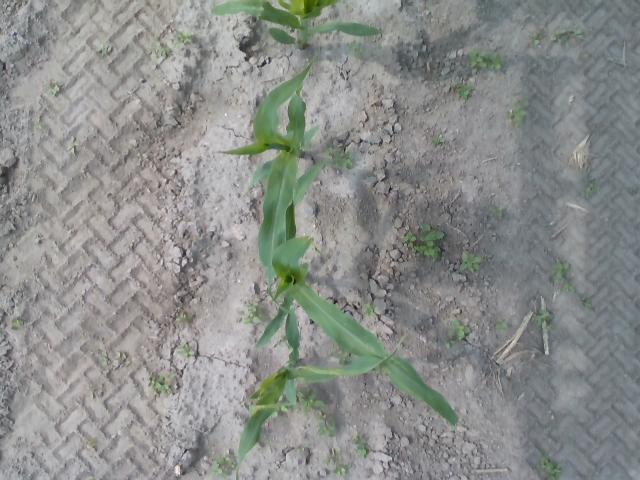Maize: (252, 154, 458, 424), (236, 289, 404, 474), (219, 54, 316, 314), (211, 0, 383, 51)
Weeds: (416, 226, 444, 258), (552, 263, 575, 291), (212, 452, 236, 478), (471, 53, 501, 73), (300, 389, 322, 410), (448, 321, 470, 340), (552, 30, 584, 42), (460, 253, 482, 270), (539, 459, 558, 478), (454, 82, 474, 98), (176, 30, 198, 44), (150, 377, 170, 392), (511, 106, 526, 126), (317, 419, 334, 436), (335, 154, 354, 169), (354, 440, 368, 458), (402, 232, 417, 248), (248, 298, 264, 312), (113, 350, 127, 366), (178, 344, 195, 357), (246, 313, 264, 324), (586, 182, 598, 198), (154, 48, 172, 58), (535, 310, 550, 322), (360, 304, 374, 316), (490, 210, 504, 221), (497, 316, 508, 330), (334, 465, 348, 476), (97, 44, 112, 54), (12, 318, 26, 328), (580, 297, 592, 308), (175, 313, 188, 323), (532, 34, 544, 44), (433, 136, 445, 146), (48, 86, 60, 94)
